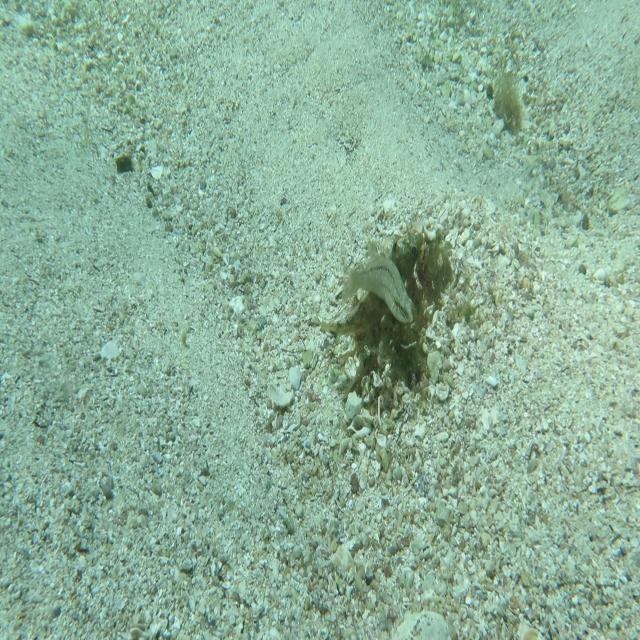ROLL: (312, 229, 424, 337)
core_nest: (410, 246, 444, 280)
female: (340, 251, 414, 323)
nest: (336, 204, 464, 420)
vegetation: (489, 71, 532, 140), (116, 147, 138, 177)
